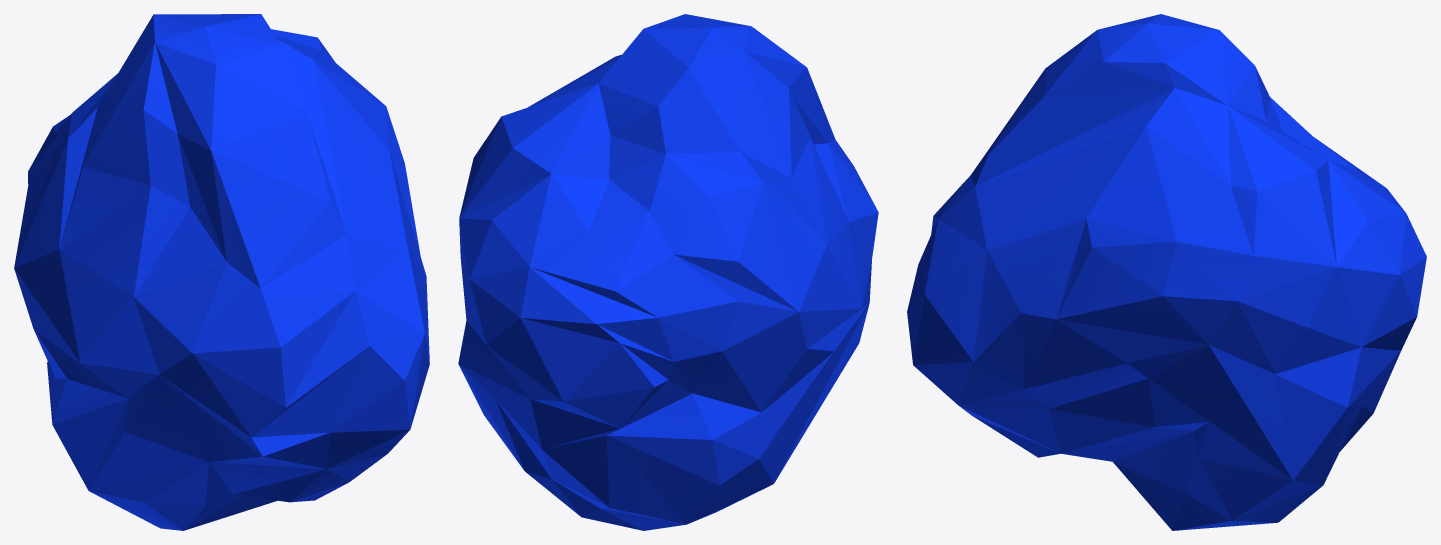
Rendered from SM_emissive_rock_02.fbx.
3 renders of one model, left to right at view 1: azimuth 30°, elevation 25°; view 2: azimuth 150°, elevation 25°; view 3: azimuth 270°, elevation 25°, orthographic. The views are drawn at different scales.
Visible parts, largest first — view 1: emissive_rock_02; view 2: emissive_rock_02; view 3: emissive_rock_02.
Boxes of the visible parts, x1=… form: emissive_rock_02: x1=14, y1=14, x2=429, y2=530; emissive_rock_02: x1=458, y1=14, x2=878, y2=530; emissive_rock_02: x1=907, y1=14, x2=1426, y2=530.
Size of the model in its own units: 343 by 481 by 464.
